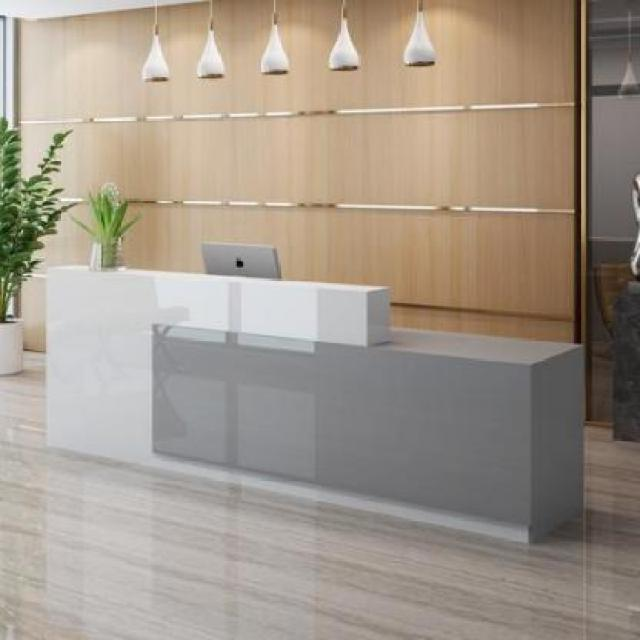frontdesk: (35, 242, 614, 554)
